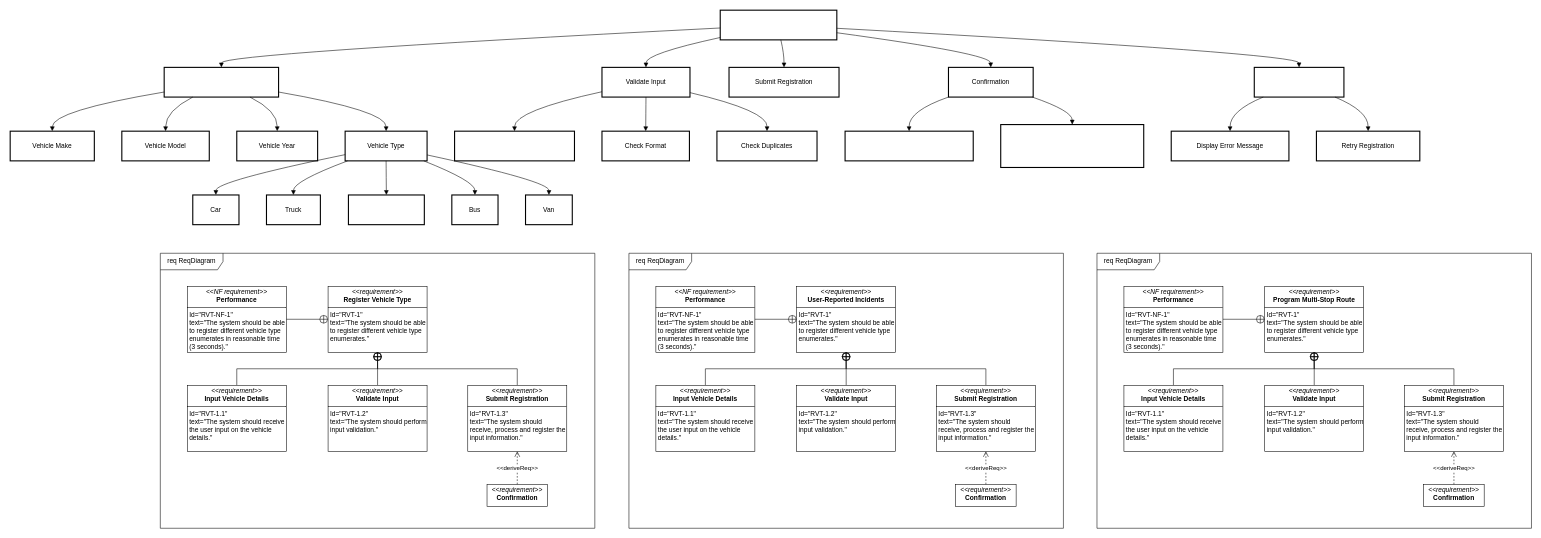
Image size: 1541x538. Some labels were removed from this diagram. The centre of each missing label's shape, as x and y in pixels:
"Check Required Fields" goes at (514,145).
"Display Success Message" goes at (909,145).
"Error Handling" goes at (1298,82).
"Input Vehicle Details" goes at (221,82).
"Motorcycle" goes at (386,209).
"Provide Registration Number" goes at (1072,146).
"Register Vehicle Type" goes at (778,24).
